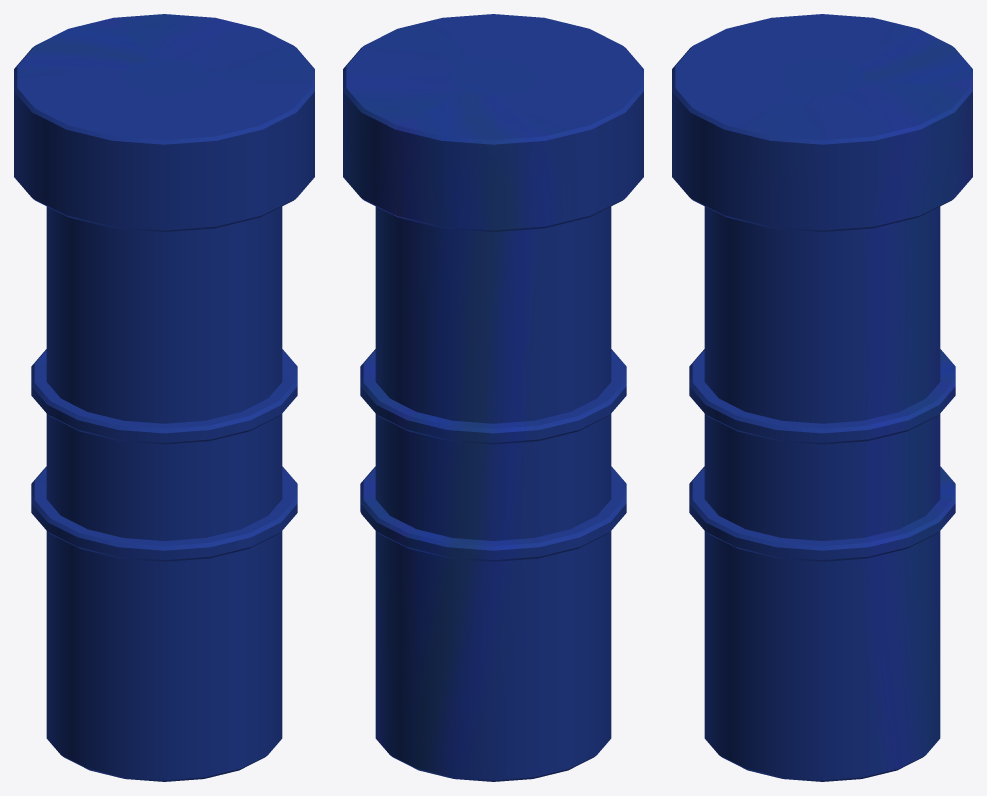
The model's file is G_EscombroTORNILLO.FBX.
3 views of the same model, side by side, from view 1: azimuth 30°, elevation 25°; view 2: azimuth 150°, elevation 25°; view 3: azimuth 270°, elevation 25° (orthographic).
Visible parts, largest first — view 1: G_Tornillo; view 2: G_Tornillo; view 3: G_Tornillo.
Part boxes in pixels (box(x1,y1,x2,y2)): G_Tornillo: box(14, 14, 314, 781); G_Tornillo: box(343, 14, 643, 781); G_Tornillo: box(672, 14, 972, 781).
Bounding box in the file's own units: 0.0824 × 0.1953 × 0.0812.
